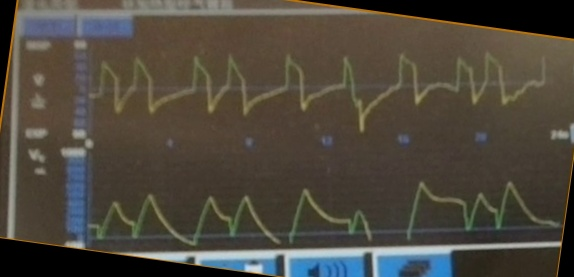Double_Triggering Flow: (94, 47, 550, 131)
Double_Triggering Volume: (91, 178, 558, 241)
